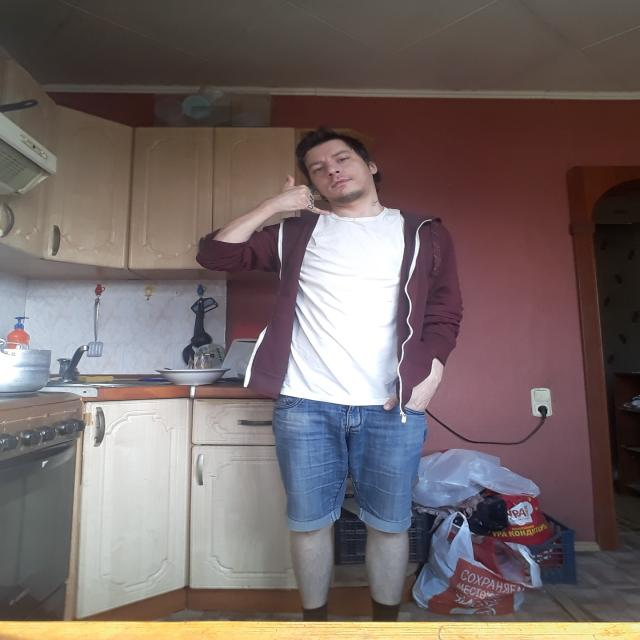call: (274, 173, 334, 218)
